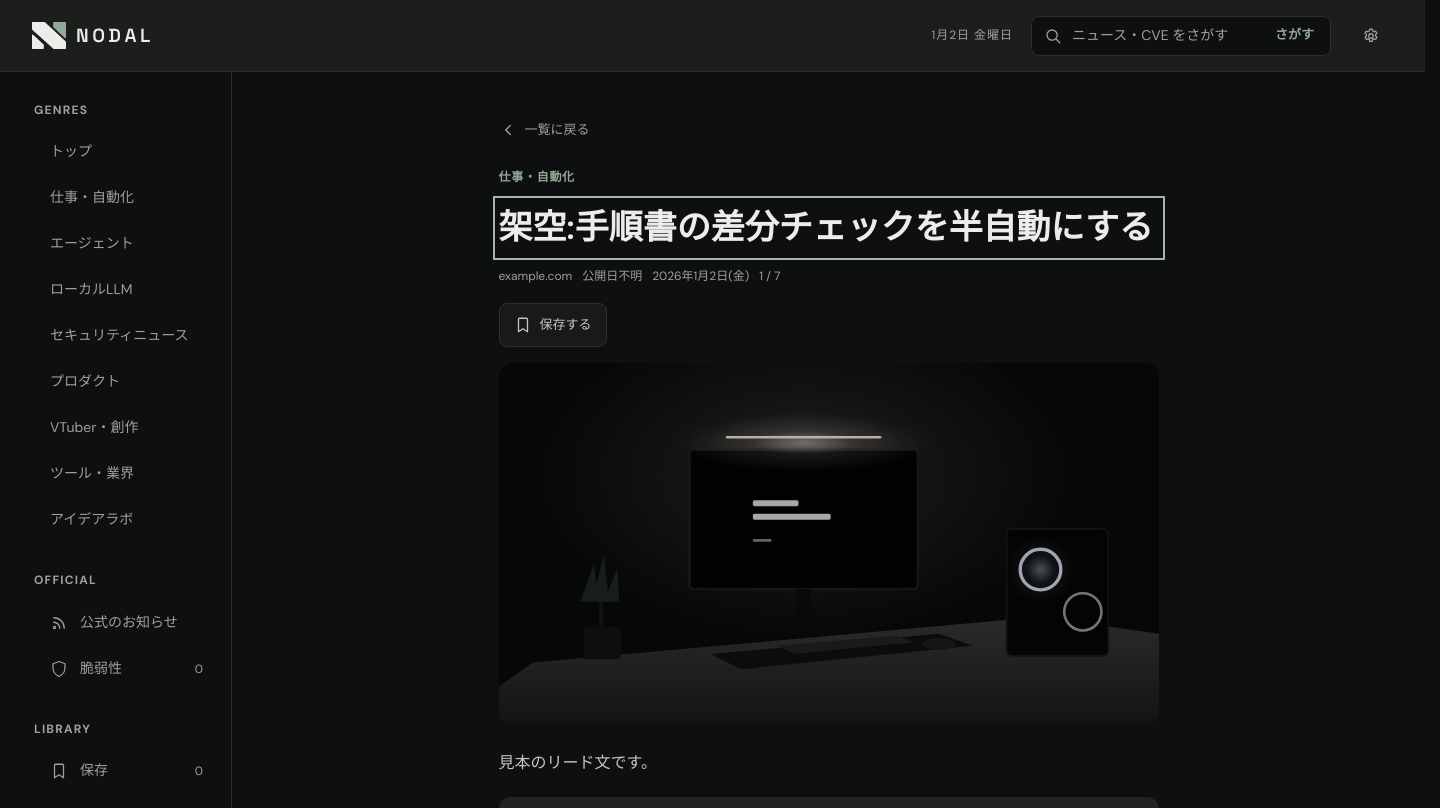
Test: ネタの詳細 › 保存ボタンで保存と解除ができ、端末に残る
Click the button "保存する".
click(552, 325)  # box [498,303,606,347]
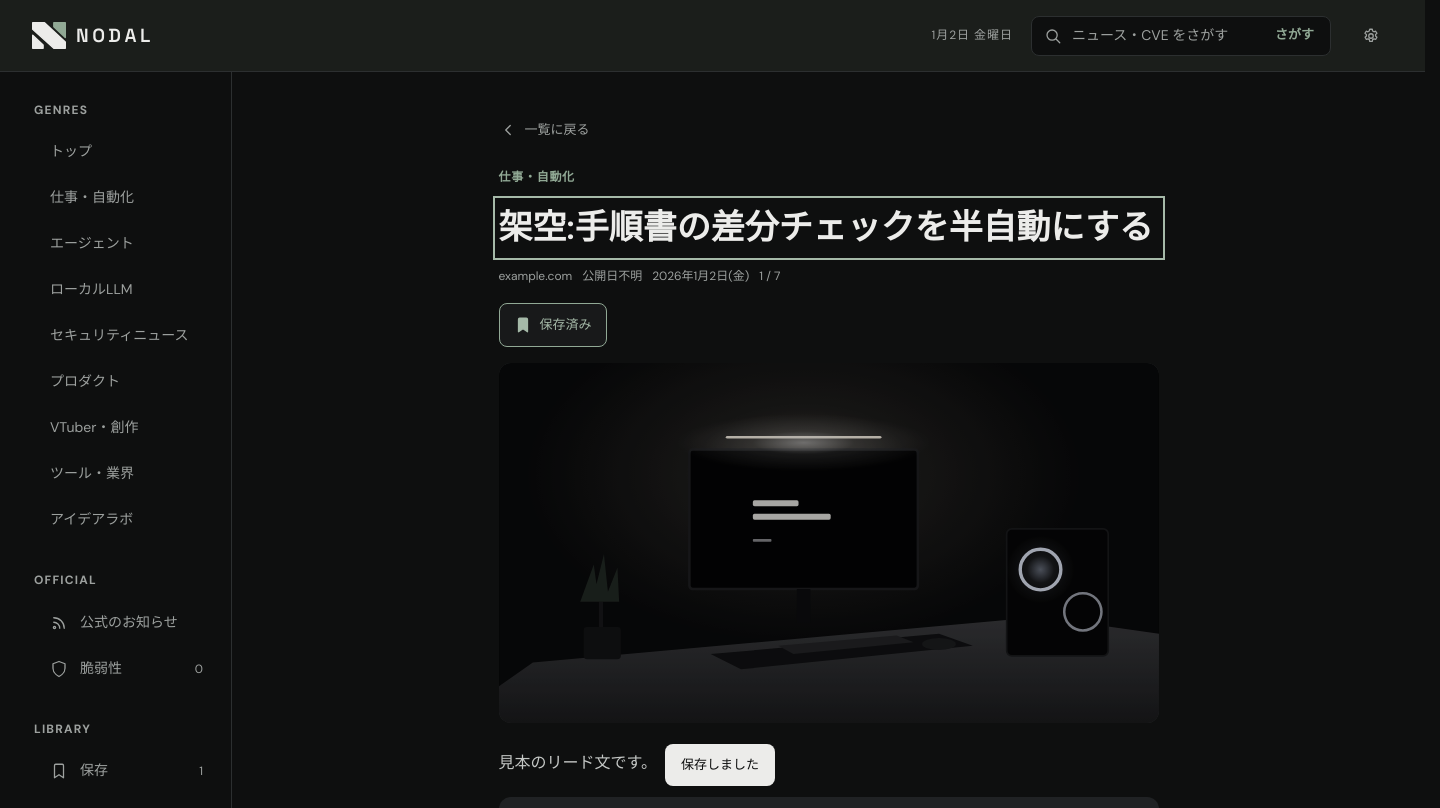
Expected: the button "保存済み" is pressed
Click the button "保存済み".
click(552, 325)  # box [498,303,606,347]
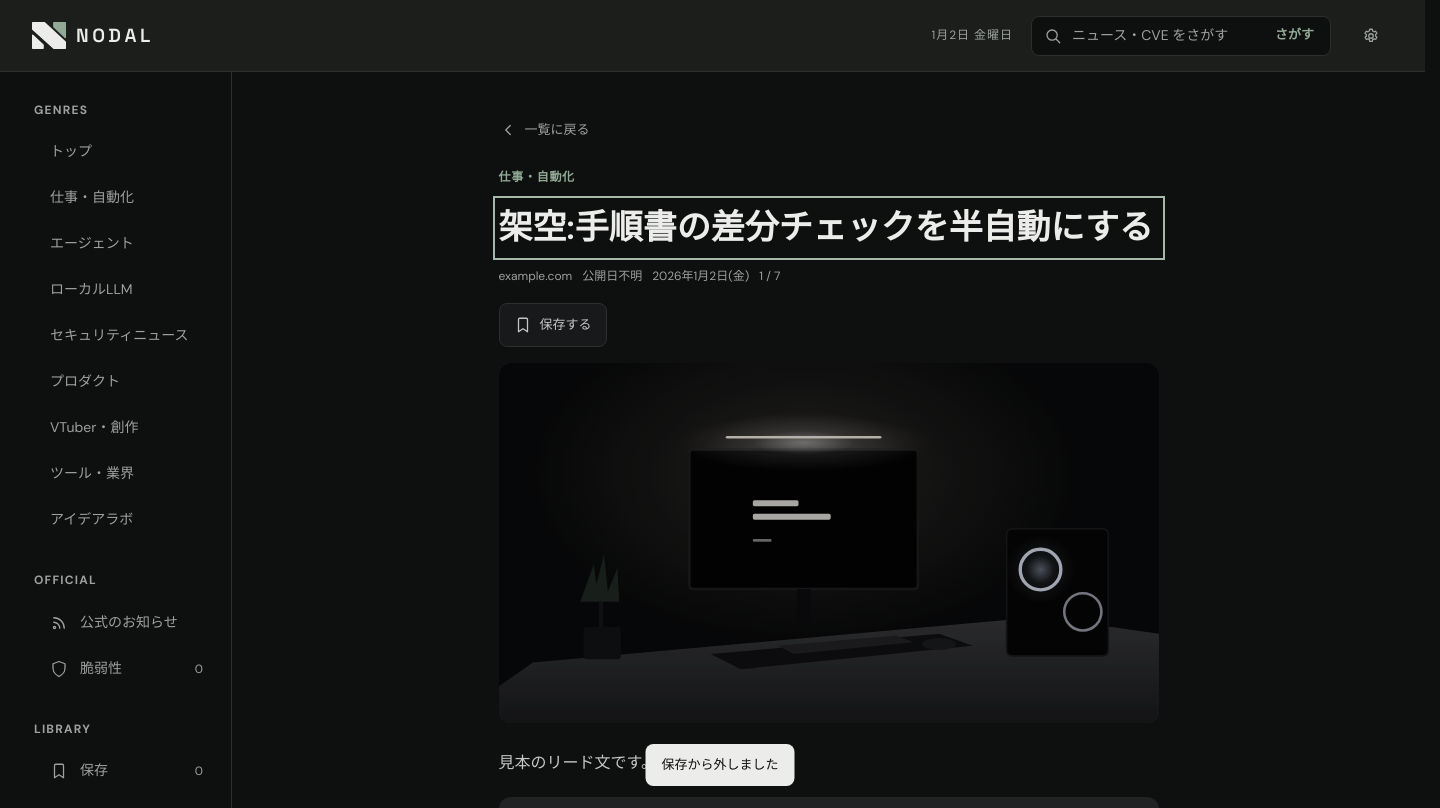
Expected: the button "保存する" is not pressed, [498,303,606,347]
